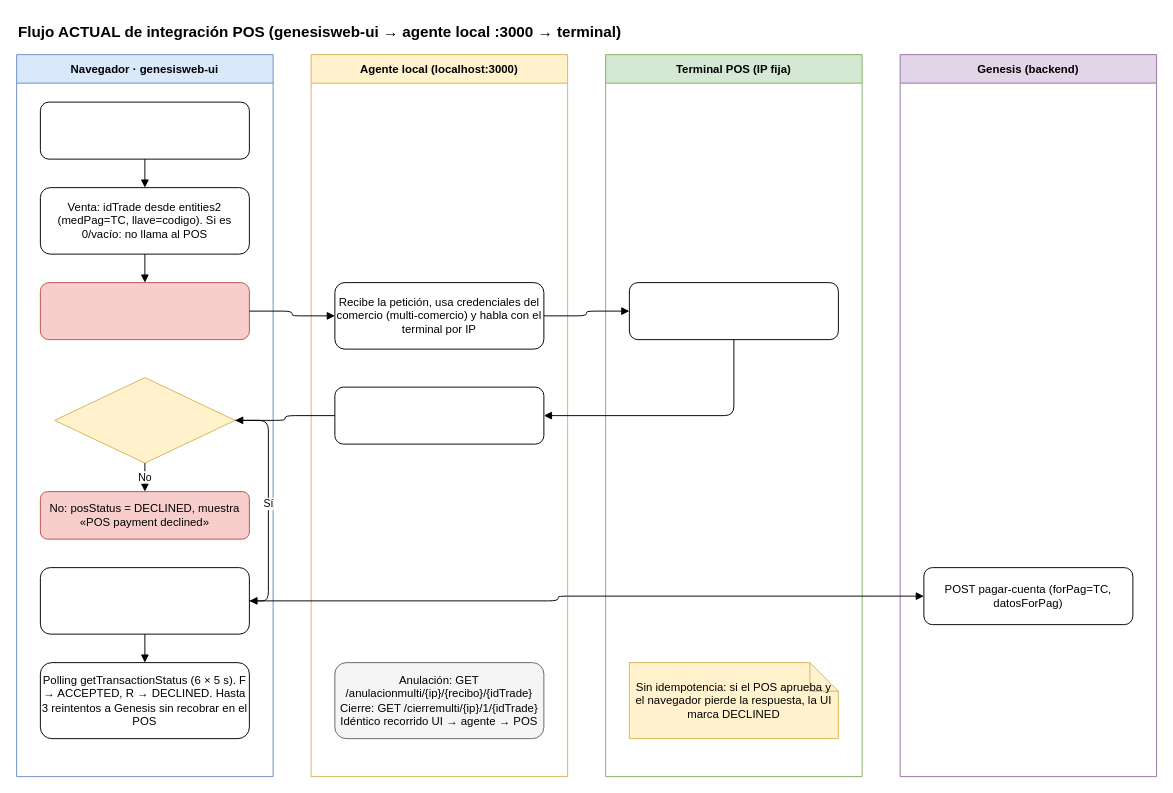
This 1173x793 diagram has some shape labels left out. The centre of each missing label's shape, as x and y in pixels:
"Ajustes › POS: IP del terminal guardada en localStorage (pos_ip)" belongs at [144,130].
"codRespuesta == '00'?" belongs at [144,420].
"Devuelve PosAtcResponse (codRespuesta, numRecibo, codAutoriz, …)" belongs at [439,415].
"GET /chipmulti/{ip}/{monto}/{idTrade} (sin timeout propio; límite global 60 s)" belongs at [144,311].
"Procesa tarjeta (chip/ctl) con el cliente" belongs at [733,311].
"Sí: posStatus = ACCEPTED. payCartPOS con datosForPag = campos de PosAtcResponse" belongs at [144,600].
